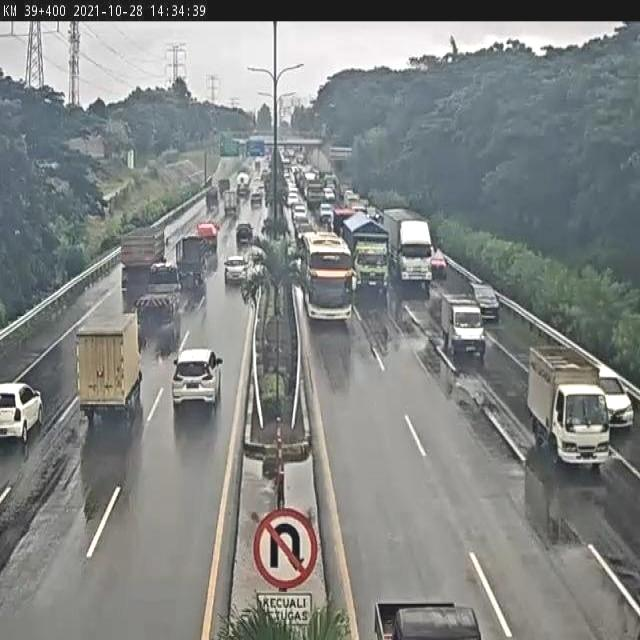Car: (170, 347, 222, 410), (0, 384, 45, 445), (468, 282, 501, 324), (223, 256, 249, 288), (236, 222, 254, 246)
Truck: (525, 346, 615, 468), (75, 314, 143, 426), (368, 594, 484, 640), (297, 232, 353, 321), (383, 209, 433, 295), (341, 212, 388, 296), (120, 228, 167, 294), (133, 262, 183, 324), (439, 294, 485, 361), (176, 232, 215, 289), (222, 186, 242, 218), (304, 178, 324, 208)
